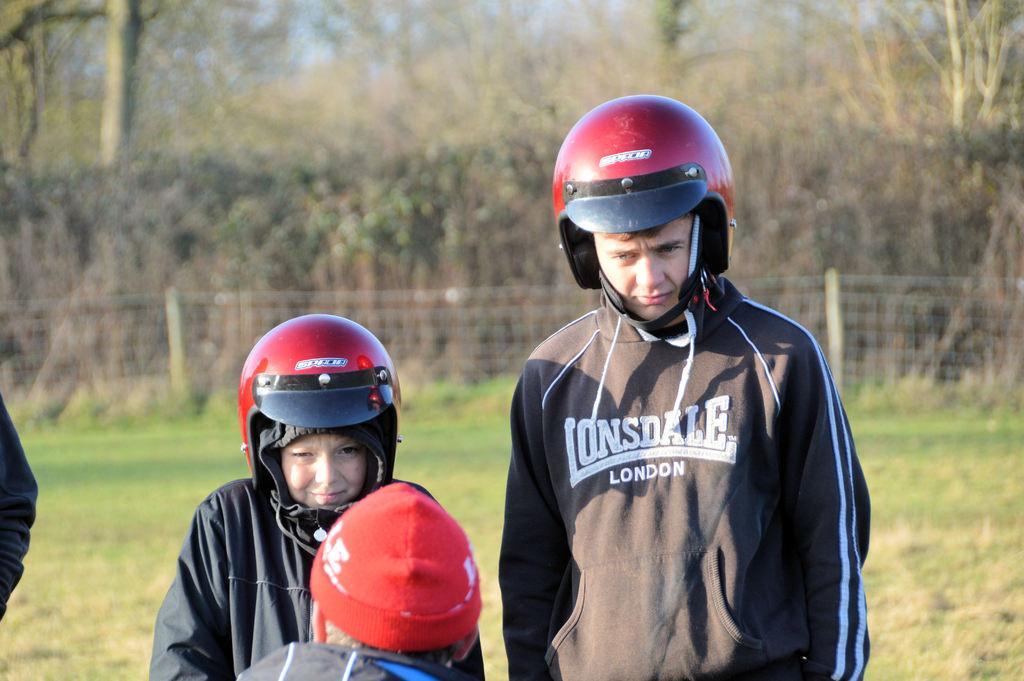helmet: (552, 94, 736, 321), (237, 313, 402, 510)
nohelmet: (306, 480, 484, 681)
